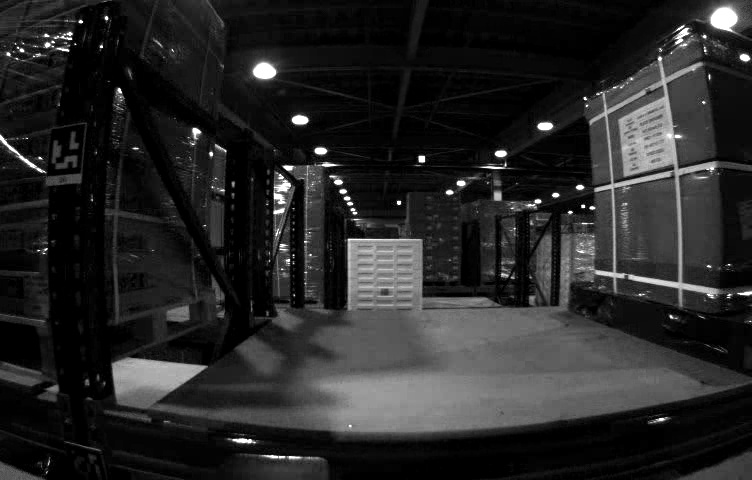True Barcode: (21, 271, 51, 320), (737, 198, 752, 240)
